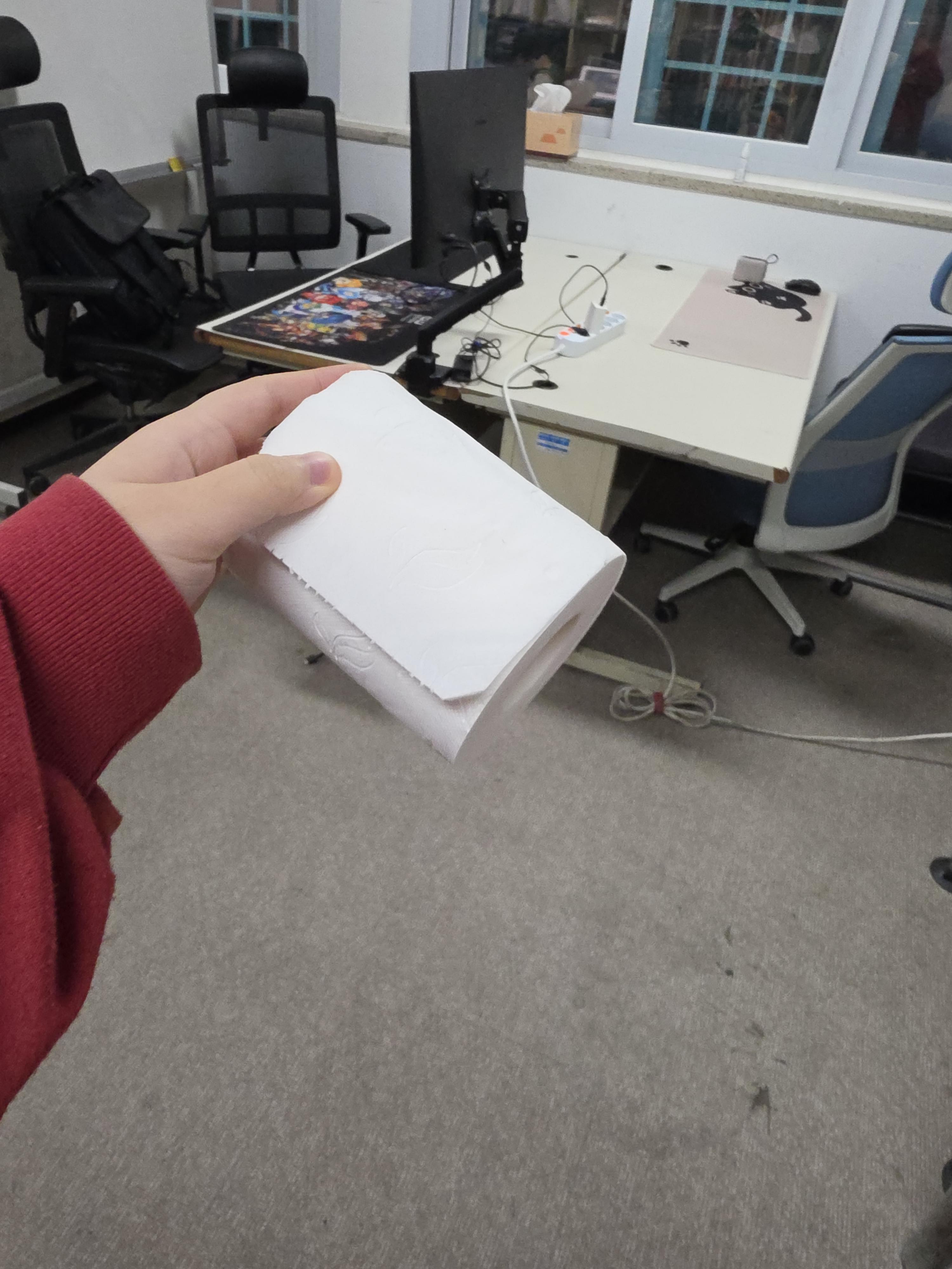tissue: (218, 367, 627, 765), (525, 82, 584, 157)
